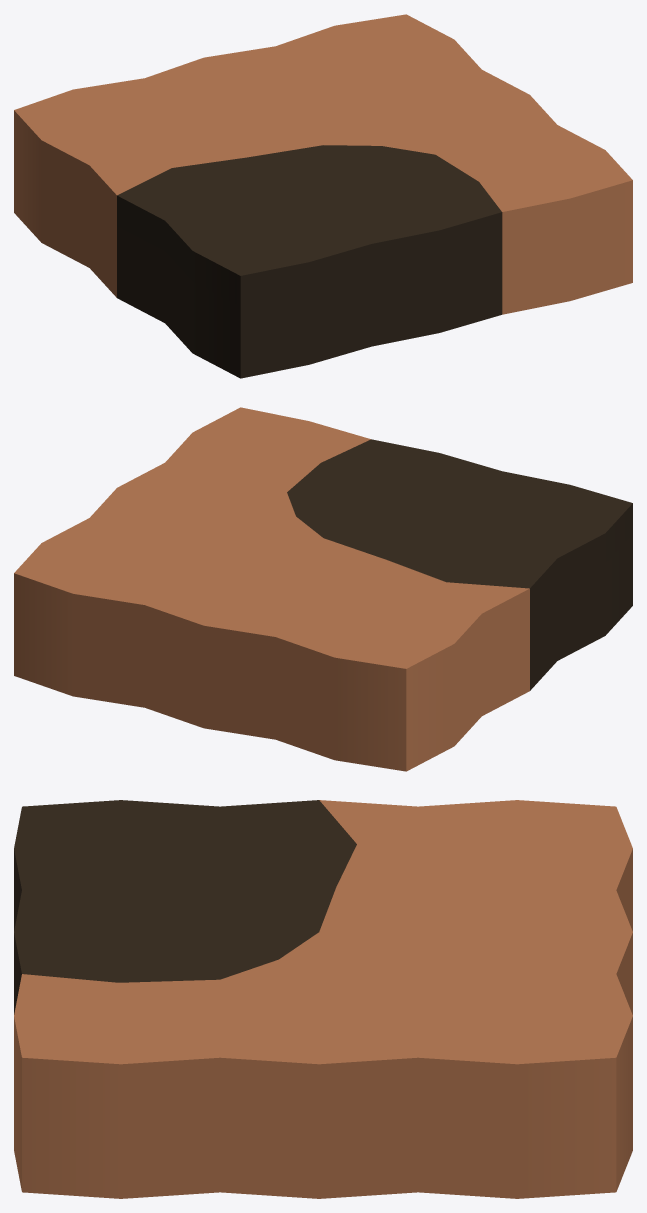
Rendered from jaggeredTile-24b_col.fbx.
3 renders of one model, top to bottom at view 1: azimuth 30°, elevation 25°; view 2: azimuth 150°, elevation 25°; view 3: azimuth 270°, elevation 25°, orthographic. The views are drawn at different scales.
Visible parts, largest first — view 1: jaggeredTile-24b.col; view 2: jaggeredTile-24b.col; view 3: jaggeredTile-24b.col.
Boxes of the visible parts, left/top/right/bottom form: jaggeredTile-24b.col: left=14, top=14, right=632, bottom=378; jaggeredTile-24b.col: left=14, top=407, right=632, bottom=771; jaggeredTile-24b.col: left=14, top=800, right=632, bottom=1198.
Bounding box in the file's own units: 2.1 × 0.5 × 2.08.
1 material, 1 textured.
